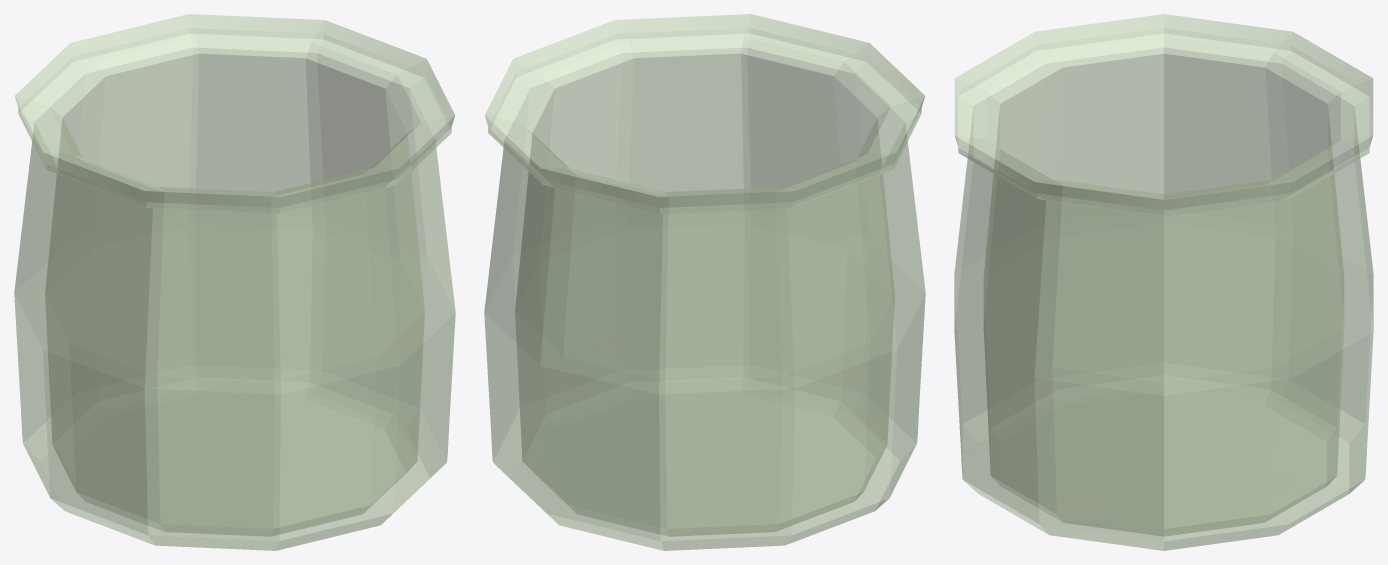
File: widepot.fbx
The picture shows the model from 3 angles, left to right: view 1: azimuth 30°, elevation 25°; view 2: azimuth 150°, elevation 25°; view 3: azimuth 270°, elevation 25°; orthographic projection.
Parts seen in each view (by area): view 1: cyl3; view 2: cyl3; view 3: cyl3.
Boxes of the visible parts, left/top/right/bottom form: cyl3: left=14, top=14, right=455, bottom=550; cyl3: left=484, top=14, right=925, bottom=550; cyl3: left=954, top=14, right=1373, bottom=550.
Size of the model in its own units: 0.9677 by 0.8763 by 0.9204.
